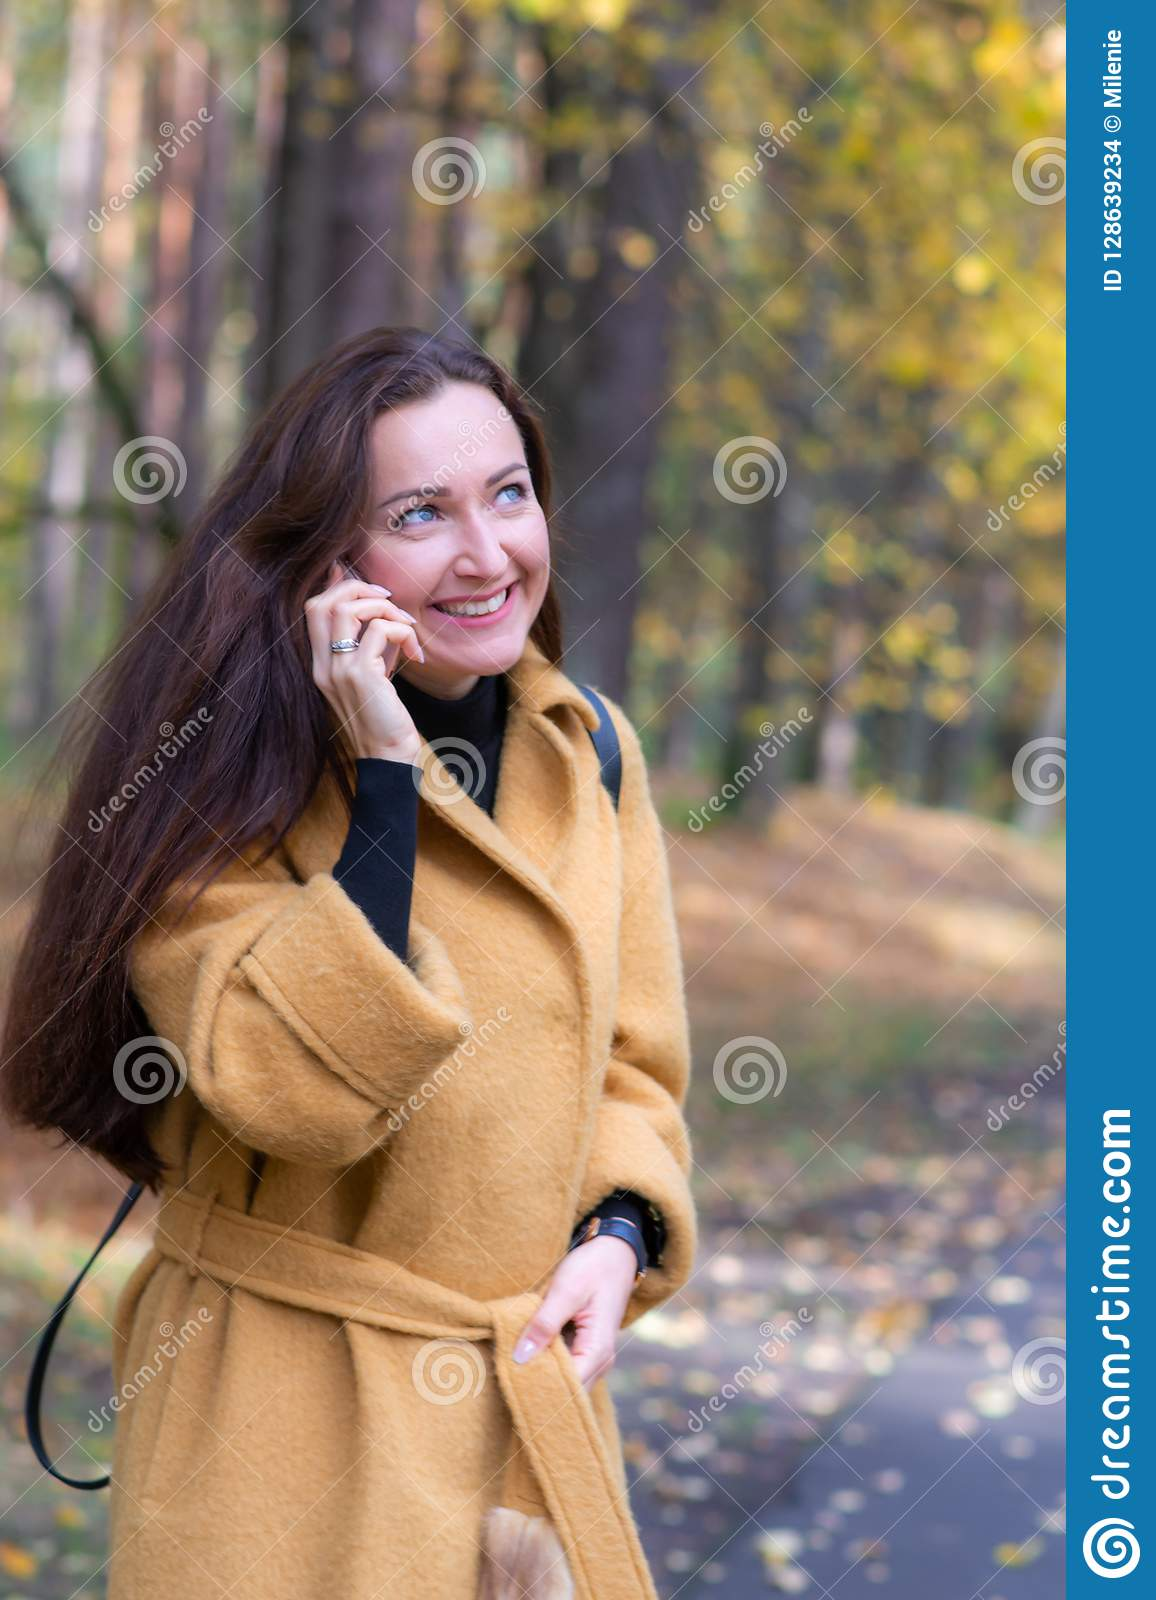phone: (310, 553, 425, 702)
talk: (304, 452, 567, 763)
